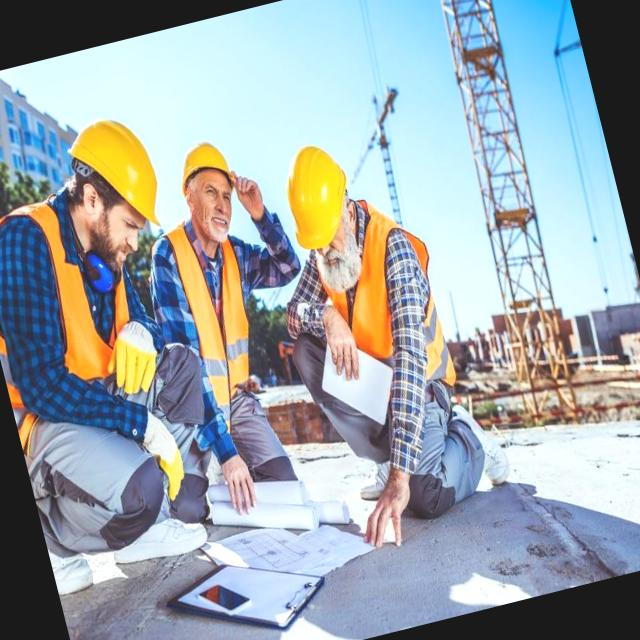helmet: (60, 102, 178, 247), (270, 134, 362, 260), (171, 138, 236, 204)
vest: (0, 197, 174, 500), (300, 215, 464, 452)
